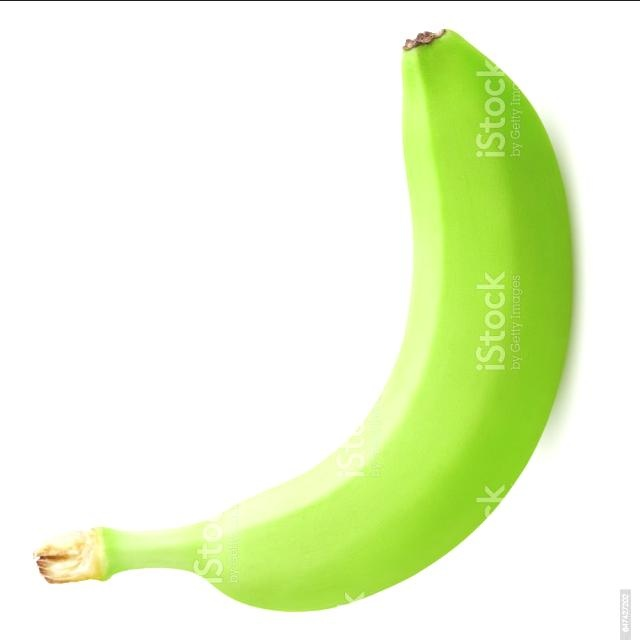agrume: (30, 24, 582, 616)
